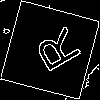R: (25, 25, 83, 79)
